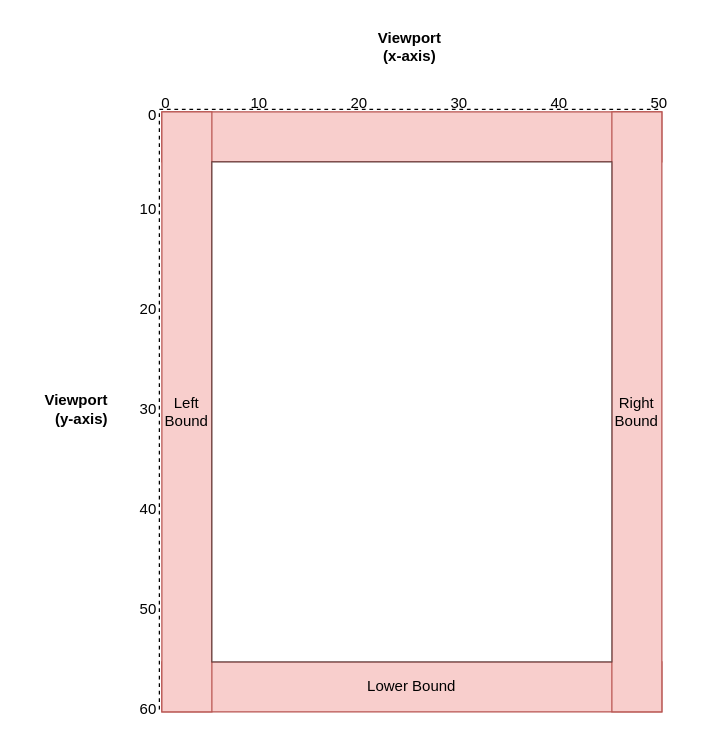
Image size: 718x743. Some labels were removed from this diagram. The box of each missing label's shape, as (x1, y1, x2, y2) in pixels:
Scrollable Area: (211, 161, 612, 662)
Upper Bound: (161, 111, 662, 162)
